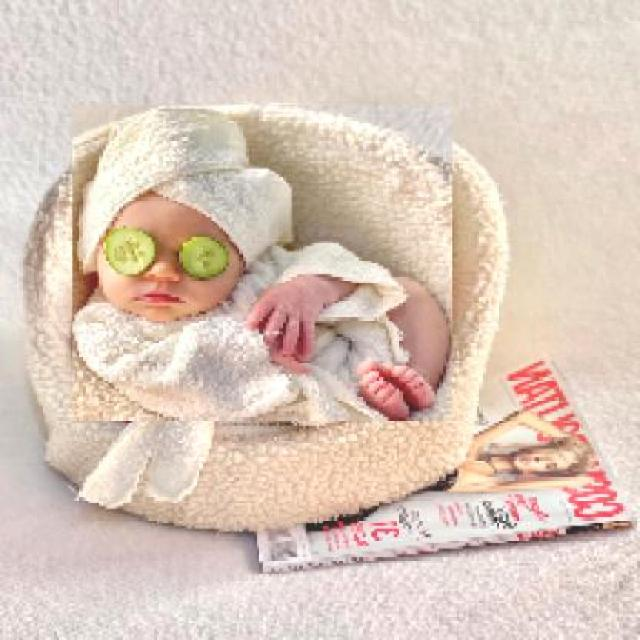child: (70, 105, 453, 422)
